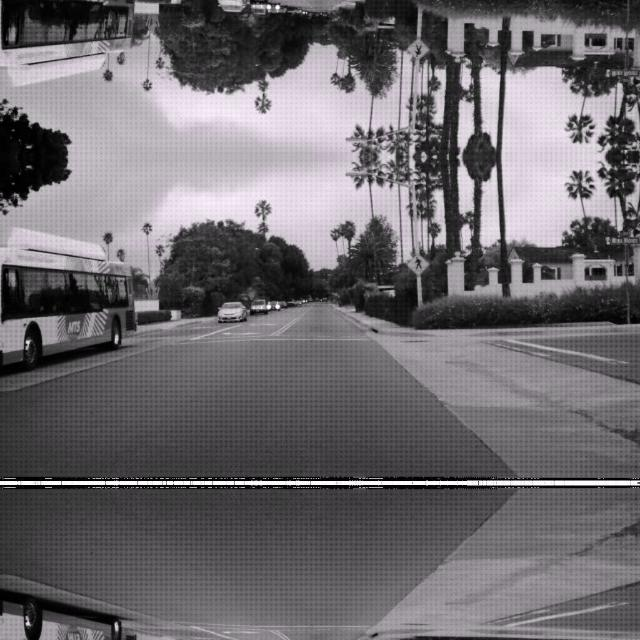pedestrianCrossing: (406, 38, 429, 61), (406, 252, 429, 274)
